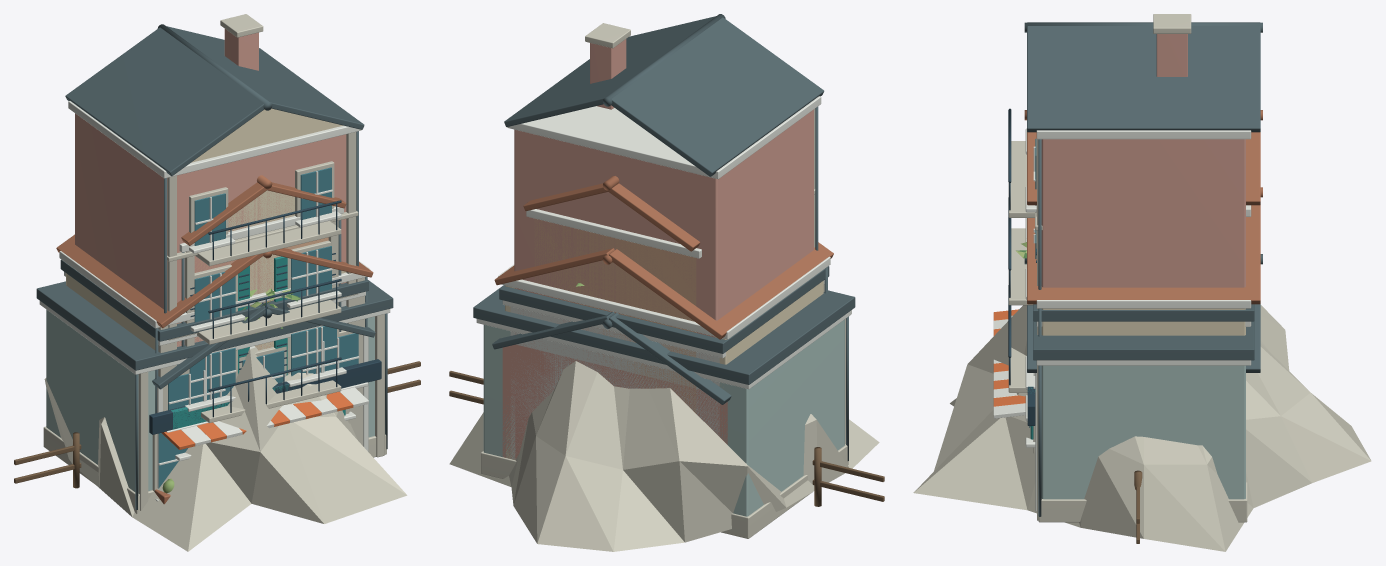
File: move-world.glb
3 views of the same model, side by side, from view 1: azimuth 30°, elevation 25°; view 2: azimuth 150°, elevation 25°; view 3: azimuth 270°, elevation 25° (orthographic). The views are drawn at different scales.
Visible parts, largest first — view 1: Mountain ridges, Pitched roof.004, Chimney.002, Balcony, Masonry.002, Flat roof, Cornice.003, Door glazing.003, Corner pilaster.004, Pitched roof.002, Cornice.001, Gable.002 (+23 smaller); view 2: Chimney.002, Mountain ridges, Pitched roof.004, Masonry.002, Masonry, Flat roof, Masonry.004, Cornice.003, Chimney.003, Pitched roof.002, Flat roof.001, Cornice.001 (+9 smaller); view 3: Mountain ridges, Chimney.002, Pitched roof.004, Masonry.002, Flat roof, Pitched roof.002, Balcony, Gable.001, Cornice.001, Flat roof.001, Cornice.003, Pitched roof (+5 smaller).
Boxes of the visible parts, x1=… form: Mountain ridges: x1=44, y1=346, x2=407, y2=551; Pitched roof.004: x1=65, y1=24, x2=364, y2=313; Chimney.002: x1=75, y1=29, x2=346, y2=349; Balcony: x1=167, y1=14, x2=358, y2=434; Masonry.002: x1=46, y1=309, x2=374, y2=493; Flat roof: x1=36, y1=280, x2=393, y2=509; Cornice.003: x1=68, y1=101, x2=361, y2=410; Door glazing.003: x1=194, y1=167, x2=331, y2=398; Corner pilaster.004: x1=43, y1=314, x2=386, y2=513; Pitched roof.002: x1=56, y1=234, x2=373, y2=328; Cornice.001: x1=59, y1=251, x2=370, y2=460; Gable.002: x1=191, y1=108, x2=342, y2=162; Chimney.002: x1=514, y1=39, x2=813, y2=459; Mountain ridges: x1=449, y1=361, x2=879, y2=551; Pitched roof.004: x1=504, y1=14, x2=824, y2=250; Masonry.002: x1=483, y1=319, x2=844, y2=516; Masonry: x1=534, y1=219, x2=696, y2=413; Flat roof: x1=473, y1=285, x2=855, y2=460; Masonry.004: x1=510, y1=306, x2=719, y2=459; Cornice.003: x1=507, y1=96, x2=821, y2=179; Chimney.003: x1=502, y1=344, x2=727, y2=459; Pitched roof.002: x1=494, y1=242, x2=833, y2=339; Flat roof.001: x1=499, y1=266, x2=829, y2=353; Cornice.001: x1=498, y1=256, x2=830, y2=339; Mountain ridges: x1=913, y1=305, x2=1371, y2=551; Chimney.002: x1=1041, y1=34, x2=1245, y2=287; Pitched roof.004: x1=1024, y1=22, x2=1262, y2=289; Masonry.002: x1=1041, y1=365, x2=1245, y2=499; Flat roof: x1=1033, y1=321, x2=1254, y2=516; Pitched roof.002: x1=1027, y1=187, x2=1262, y2=304; Balcony: x1=1008, y1=14, x2=1191, y2=392; Gable.001: x1=1041, y1=308, x2=1245, y2=335; Cornice.001: x1=993, y1=300, x2=1251, y2=418; Flat roof.001: x1=1033, y1=304, x2=1254, y2=321; Cornice.003: x1=1025, y1=128, x2=1251, y2=383; Pitched roof: x1=1024, y1=110, x2=1262, y2=205.
Size of the model in its own units: 9.2 by 9.1 by 8.08.
